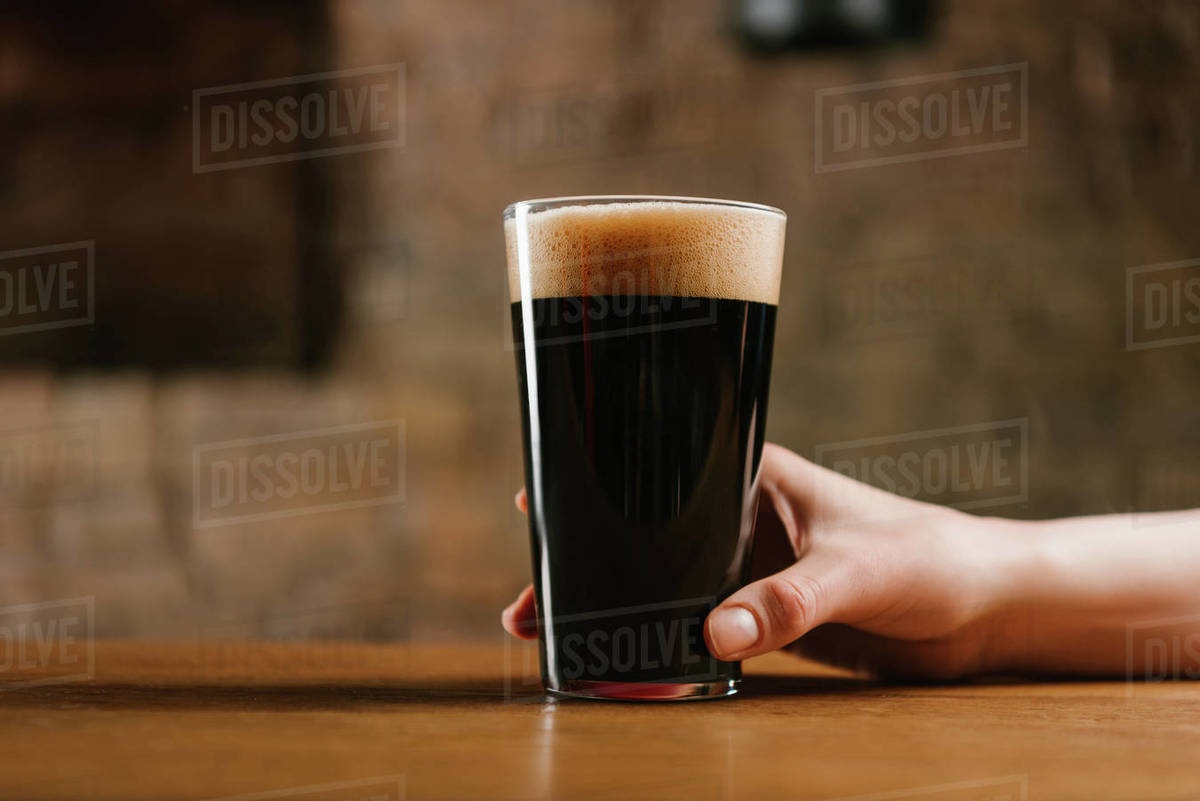glassBeer: (503, 195, 790, 692)
